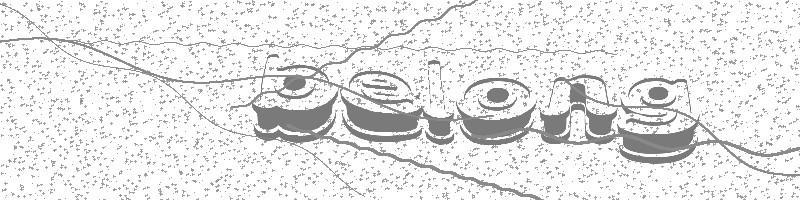b: (249, 51, 341, 146)
e: (341, 65, 420, 141)
g: (619, 78, 699, 167)
l: (420, 54, 458, 145)
n: (541, 68, 617, 146)
o: (454, 79, 538, 145)
